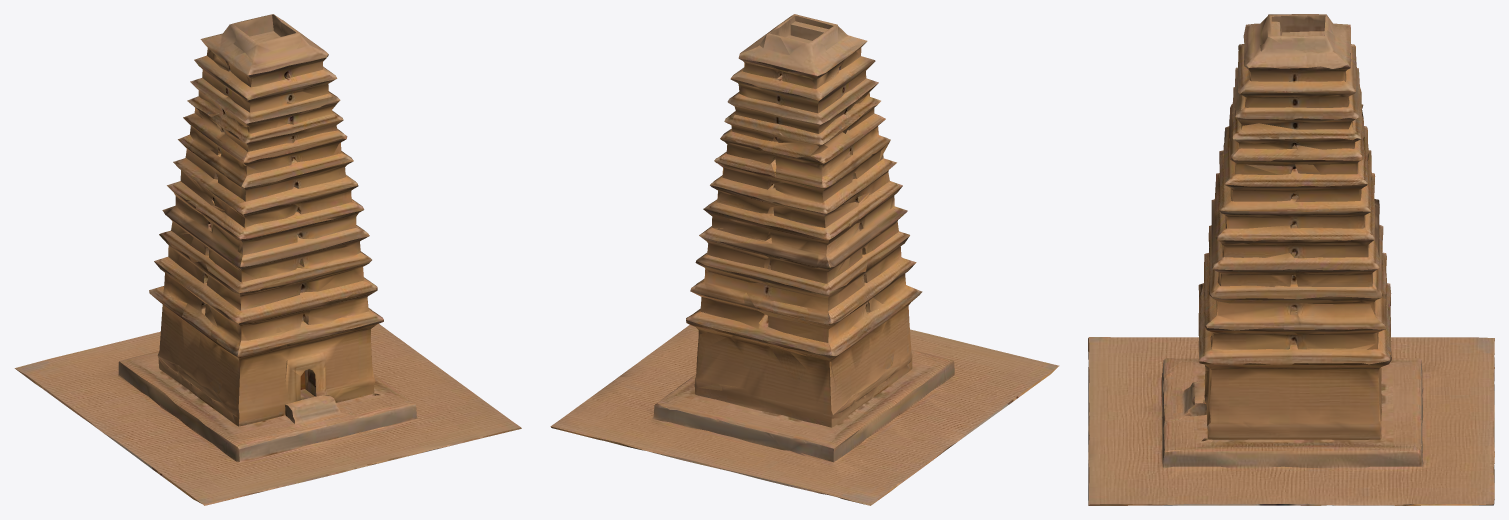
File: small-wild-goose-pagoda.glb
3 views of the same model, side by side, from view 1: azimuth 30°, elevation 25°; view 2: azimuth 150°, elevation 25°; view 3: azimuth 270°, elevation 25° (orthographic). The views are drawn at different scales.
Visible parts, largest first — view 1: logan-textured.obj; view 2: logan-textured.obj; view 3: logan-textured.obj.
Boxes of the visible parts, x1=… form: logan-textured.obj: x1=14, y1=14, x2=521, y2=505; logan-textured.obj: x1=550, y1=14, x2=1059, y2=505; logan-textured.obj: x1=1088, y1=14, x2=1494, y2=505.
Size of the model in its own units: 0.9044 by 1 by 0.9281.
1 material, 1 textured.
